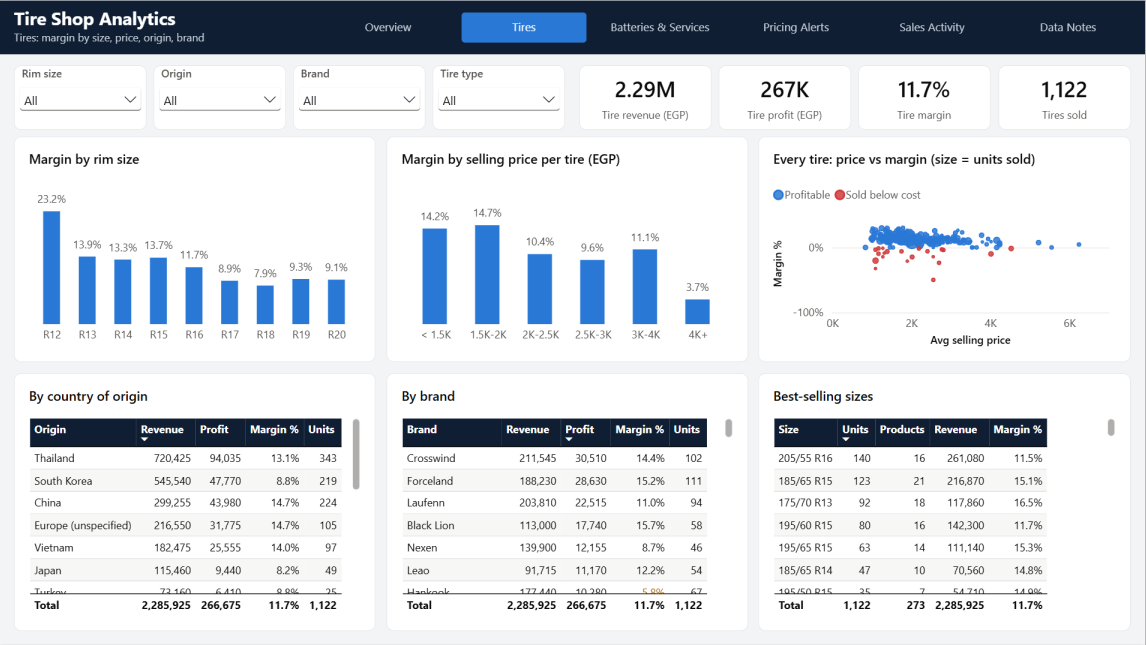

What the dashboard file says about the page in this screenshot:
{"tool":"powerbi","page":{"name":"Tires","canvas":[1280,720],"ordinal":1},"visuals":[{"type":"shape","box":[0,0,1280,60],"z":100},{"type":"textbox","box":[16,6,340,50],"z":200},{"type":"pageNavigator","box":[364,13,900,34],"z":300},{"type":"slicer","fields":{"Values":["Products.Rim Size"]},"box":[16,72,148,72],"z":400},{"type":"slicer","fields":{"Values":["Products.Origin Country"]},"box":[172,72,148,72],"z":500},{"type":"slicer","fields":{"Values":["Products.Brand"]},"box":[328,72,148,72],"z":600},{"type":"slicer","fields":{"Values":["Products.Tire Type"]},"box":[484,72,148,72],"z":700},{"type":"card","fields":{"Values":["Product Sales.Revenue"]},"box":[648,72,148,72],"z":800},{"type":"card","fields":{"Values":["Product Sales.Profit"]},"box":[804,72,148,72],"z":900},{"type":"card","fields":{"Values":["Product Sales.Margin %"]},"box":[960,72,148,72],"z":1000},{"type":"card","fields":{"Values":["Product Sales.Units Sold"]},"box":[1116,72,148,72],"z":1100},{"type":"clusteredColumnChart","title":"Margin by rim size","fields":{"Category":["Products.Rim Size"],"Y":["Product Sales.Margin %"]},"box":[16,152,404,252],"z":1200},{"type":"clusteredColumnChart","title":"Margin by selling price per tire (EGP)","fields":{"Category":["Product Sales.Price Band"],"Y":["Product Sales.Margin %"]},"box":[432,152,404,252],"z":1300},{"type":"scatterChart","title":"Every tire: price vs margin (size = units sold)","fields":{"Category":["Products.Product"],"Series":["Product Sales.Sale Status"],"Size":["Product Sales.Units Sold"],"X":["Product Sales.Avg Selling Price"],"Y":["Product Sales.Margin %"]},"box":[848,152,416,252],"z":1400},{"type":"tableEx","title":"By country of origin","fields":{"Values":["Products.Origin Country","Product Sales.Revenue","Product Sales.Profit","Product Sales.Margin %","Product Sales.Units Sold"]},"box":[16,416,404,288],"z":1500},{"type":"tableEx","title":"By brand","fields":{"Values":["Products.Brand","Product Sales.Revenue","Product Sales.Profit","Product Sales.Margin %","Product Sales.Units Sold"]},"box":[432,416,404,288],"z":1600},{"type":"tableEx","title":"Best-selling sizes","fields":{"Values":["Products.Tire Size","Product Sales.Units Sold","Product Sales.Products Sold","Product Sales.Revenue","Product Sales.Margin %"]},"box":[848,416,416,288],"z":1700}]}

Visuals, with their boxes in screenshot pixels (x1, y1, x2, y2), scaled from the page's 1280x720 canvas onto the 1146x645 screenshot:
shape: box=[0, 0, 1145, 54]
textbox: box=[14, 5, 319, 50]
pageNavigator: box=[326, 12, 1132, 42]
slicer - Products.Rim Size: box=[14, 64, 147, 129]
slicer - Products.Origin Country: box=[154, 64, 286, 129]
slicer - Products.Brand: box=[294, 64, 426, 129]
slicer - Products.Tire Type: box=[433, 64, 566, 129]
card - Product Sales.Revenue: box=[580, 64, 713, 129]
card - Product Sales.Profit: box=[720, 64, 852, 129]
card - Product Sales.Margin %: box=[860, 64, 992, 129]
card - Product Sales.Units Sold: box=[999, 64, 1132, 129]
"Margin by rim size" clusteredColumnChart: box=[14, 136, 376, 362]
"Margin by selling price per tire (EGP)" clusteredColumnChart: box=[387, 136, 748, 362]
"Every tire: price vs margin (size = units sold)" scatterChart: box=[759, 136, 1132, 362]
"By country of origin" tableEx: box=[14, 373, 376, 631]
"By brand" tableEx: box=[387, 373, 748, 631]
"Best-selling sizes" tableEx: box=[759, 373, 1132, 631]
